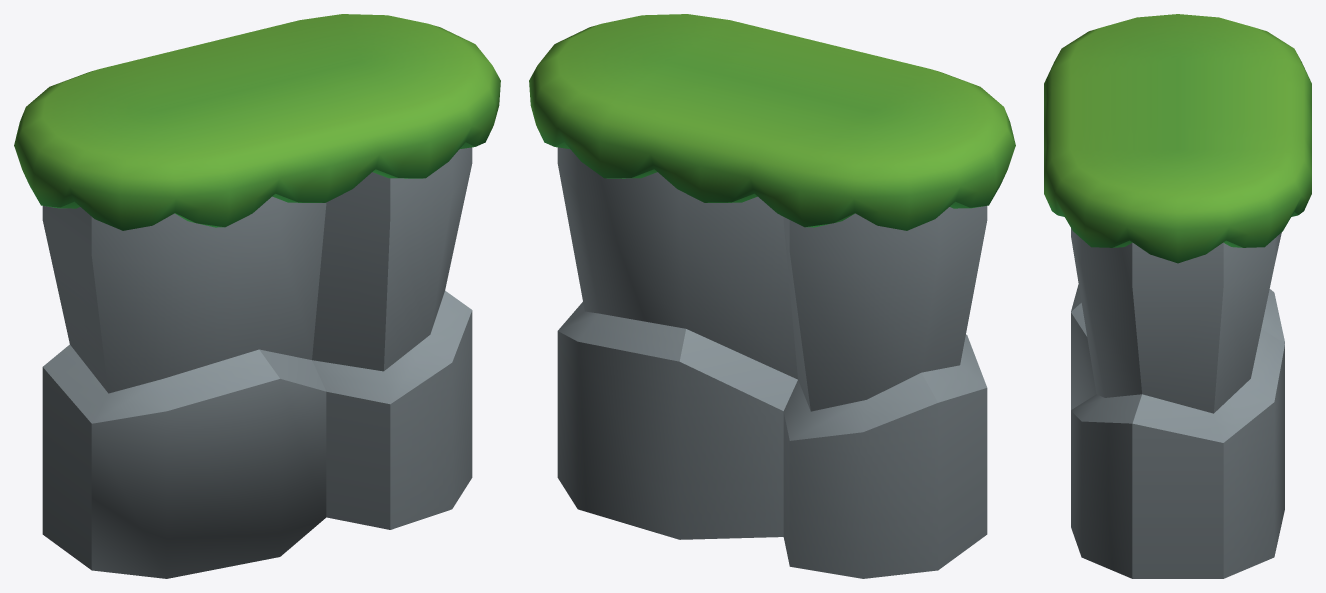
File: Hill_4x2x4_Color1.gltf
3 renders of one model, left to right at view 1: azimuth 30°, elevation 25°; view 2: azimuth 150°, elevation 25°; view 3: azimuth 270°, elevation 25°, orthographic. The views are drawn at different scales.
Visible parts, largest first — view 1: Hill_4x2x4_Color1; view 2: Hill_4x2x4_Color1; view 3: Hill_4x2x4_Color1.
Part boxes in pixels (x1=…): Hill_4x2x4_Color1: x1=14, y1=14, x2=500, y2=578; Hill_4x2x4_Color1: x1=529, y1=14, x2=1015, y2=578; Hill_4x2x4_Color1: x1=1044, y1=14, x2=1311, y2=578.
Bounding box in the file's own units: 4.47 × 4 × 2.5.
Materials: 1 (1 with a texture image).
